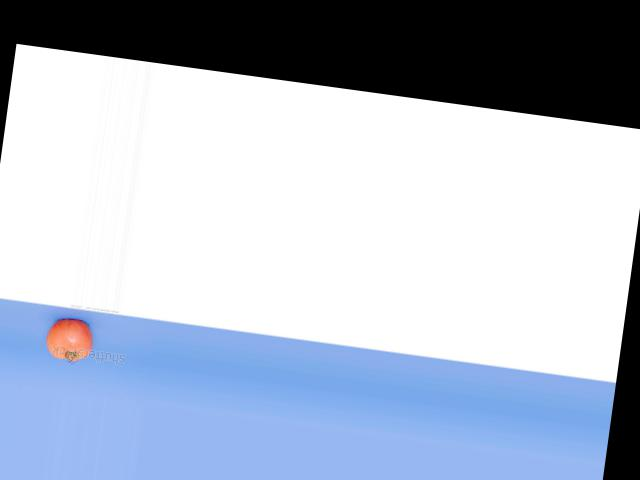tomato: (43, 316, 94, 363)
